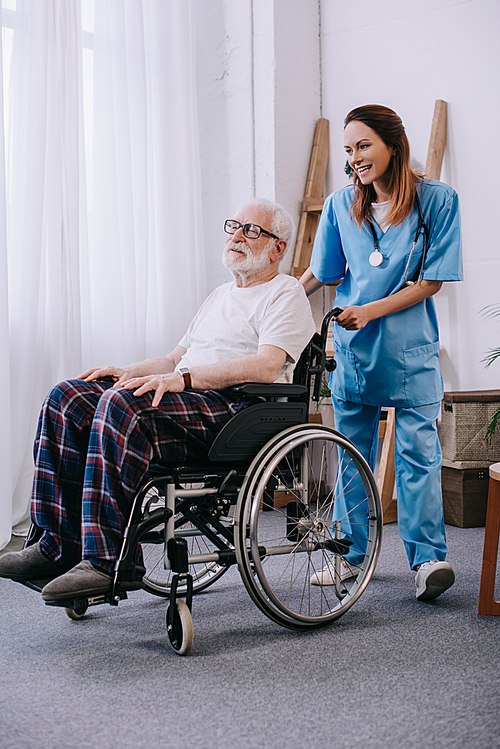wheelchair: (6, 198, 384, 655)
